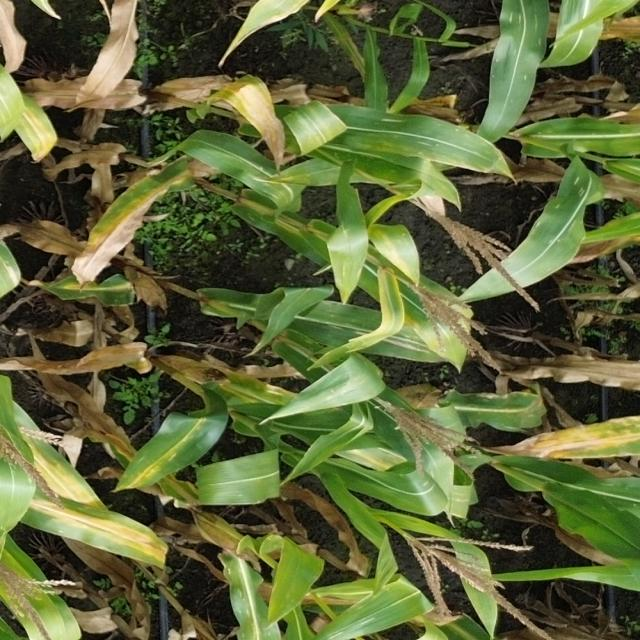gray-leaf-spot: (496, 15, 605, 91)
northern-leaf-blight: (32, 411, 218, 550), (328, 226, 453, 355), (65, 159, 188, 286), (500, 392, 640, 464), (209, 75, 292, 173)
